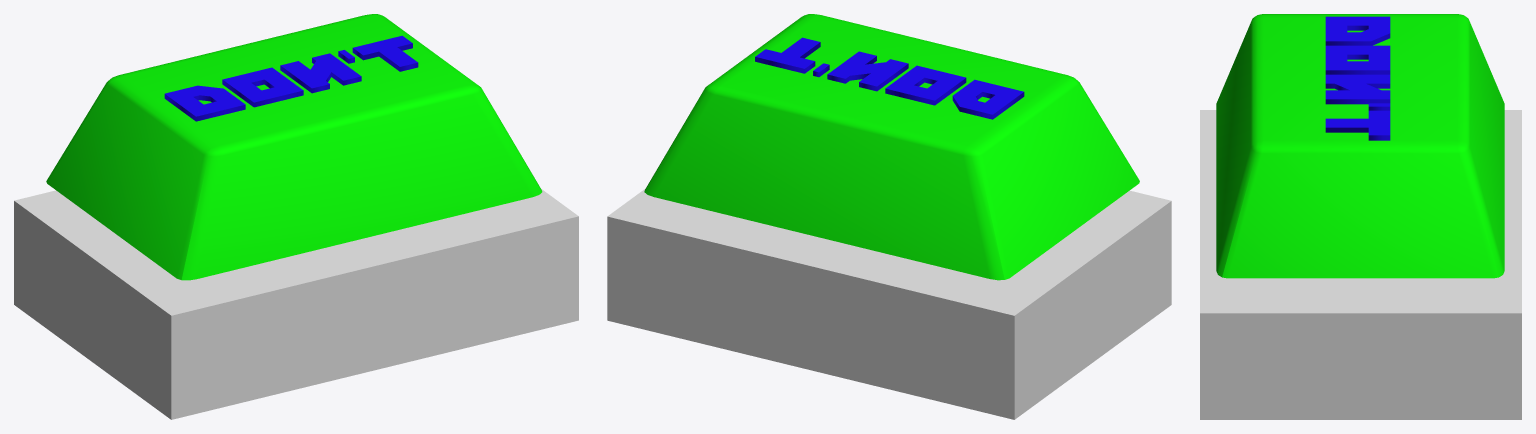
File: dont_button.fbx
3 renders of one model, left to right at view 1: azimuth 30°, elevation 25°; view 2: azimuth 150°, elevation 25°; view 3: azimuth 270°, elevation 25°, orthographic. The views are drawn at different scales.
Parts seen in each view (by area): view 1: dont_buttonkey, dont_button; view 2: dont_buttonkey, dont_button; view 3: dont_buttonkey, dont_button.
Boxes of the visible parts, bbox=[...] form: dont_buttonkey: bbox=[46, 14, 542, 280]; dont_button: bbox=[14, 189, 578, 419]; dont_buttonkey: bbox=[644, 14, 1139, 280]; dont_button: bbox=[607, 188, 1171, 419]; dont_buttonkey: bbox=[1216, 14, 1504, 278]; dont_button: bbox=[1200, 110, 1521, 419].
Bounding box in the file's own units: 80 × 44.51 × 53.49.
